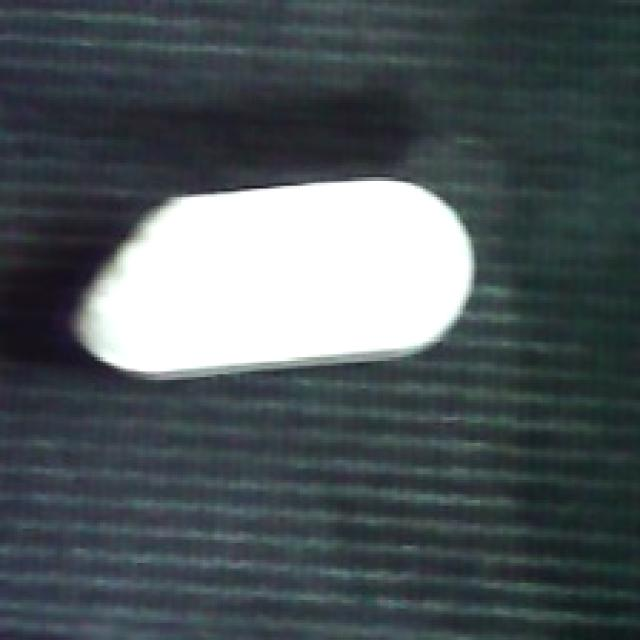defected: (69, 177, 477, 385)
